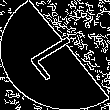L_NE: (21, 28, 89, 82)
